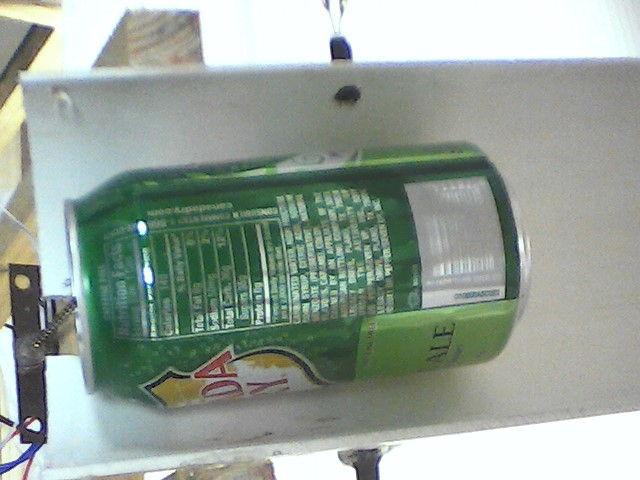lata: (61, 135, 534, 414)
